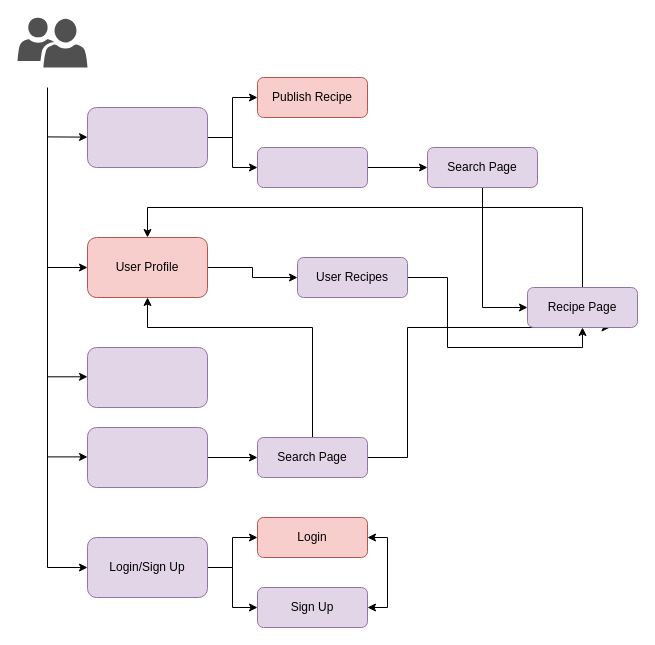
Some shapes in this 655 by 645 pixel diagram are drawn without their labels. The centre of each missing label's shape, as x and y in pixels:
"Filtered Search" goes at point (312, 167).
"Home" goes at point (147, 137).
"Ranking" goes at point (147, 377).
"Search User/Recipe" goes at point (147, 457).
